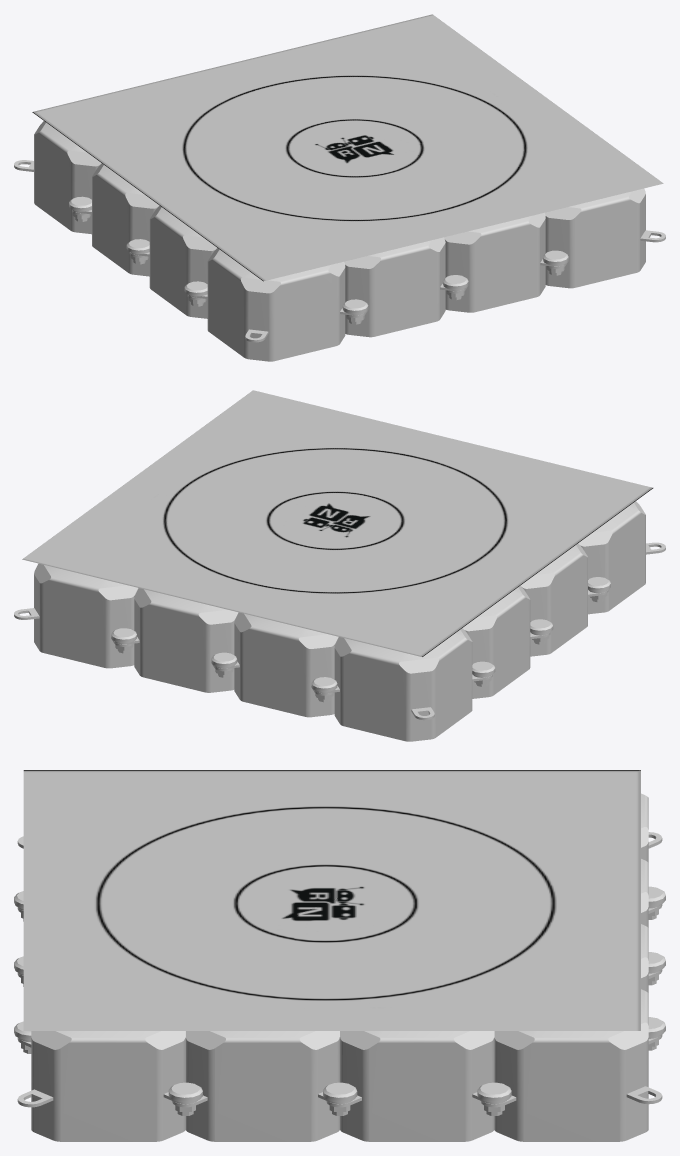
The model's file is replenish.dae.
3 views of the same model, one above another, from view 1: azimuth 30°, elevation 25°; view 2: azimuth 150°, elevation 25°; view 3: azimuth 270°, elevation 25° (orthographic). The views are drawn at different scales.
Visible parts, largest first — view 1: Plane, DocckCube.4x4; view 2: Plane, DocckCube.4x4; view 3: Plane, DocckCube.4x4.
Part boxes in pixels (bbox=[...]): Plane: bbox=[32, 14, 663, 281]; DocckCube.4x4: bbox=[14, 121, 665, 361]; Plane: bbox=[22, 390, 653, 656]; DocckCube.4x4: bbox=[14, 501, 665, 741]; Plane: bbox=[23, 770, 640, 1030]; DocckCube.4x4: bbox=[14, 793, 665, 1141].
Bounding box in the file's own units: 2.11 × 2.11 × 0.4077.
2 materials, 1 textured.
